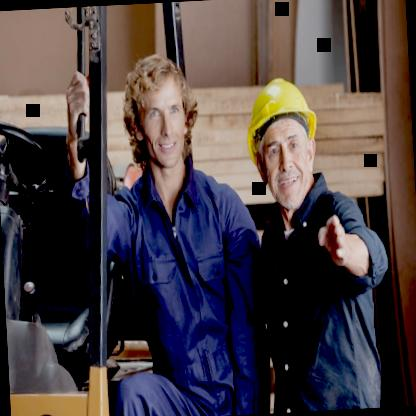head: (122, 48, 206, 176)
helmet: (242, 76, 320, 209)
